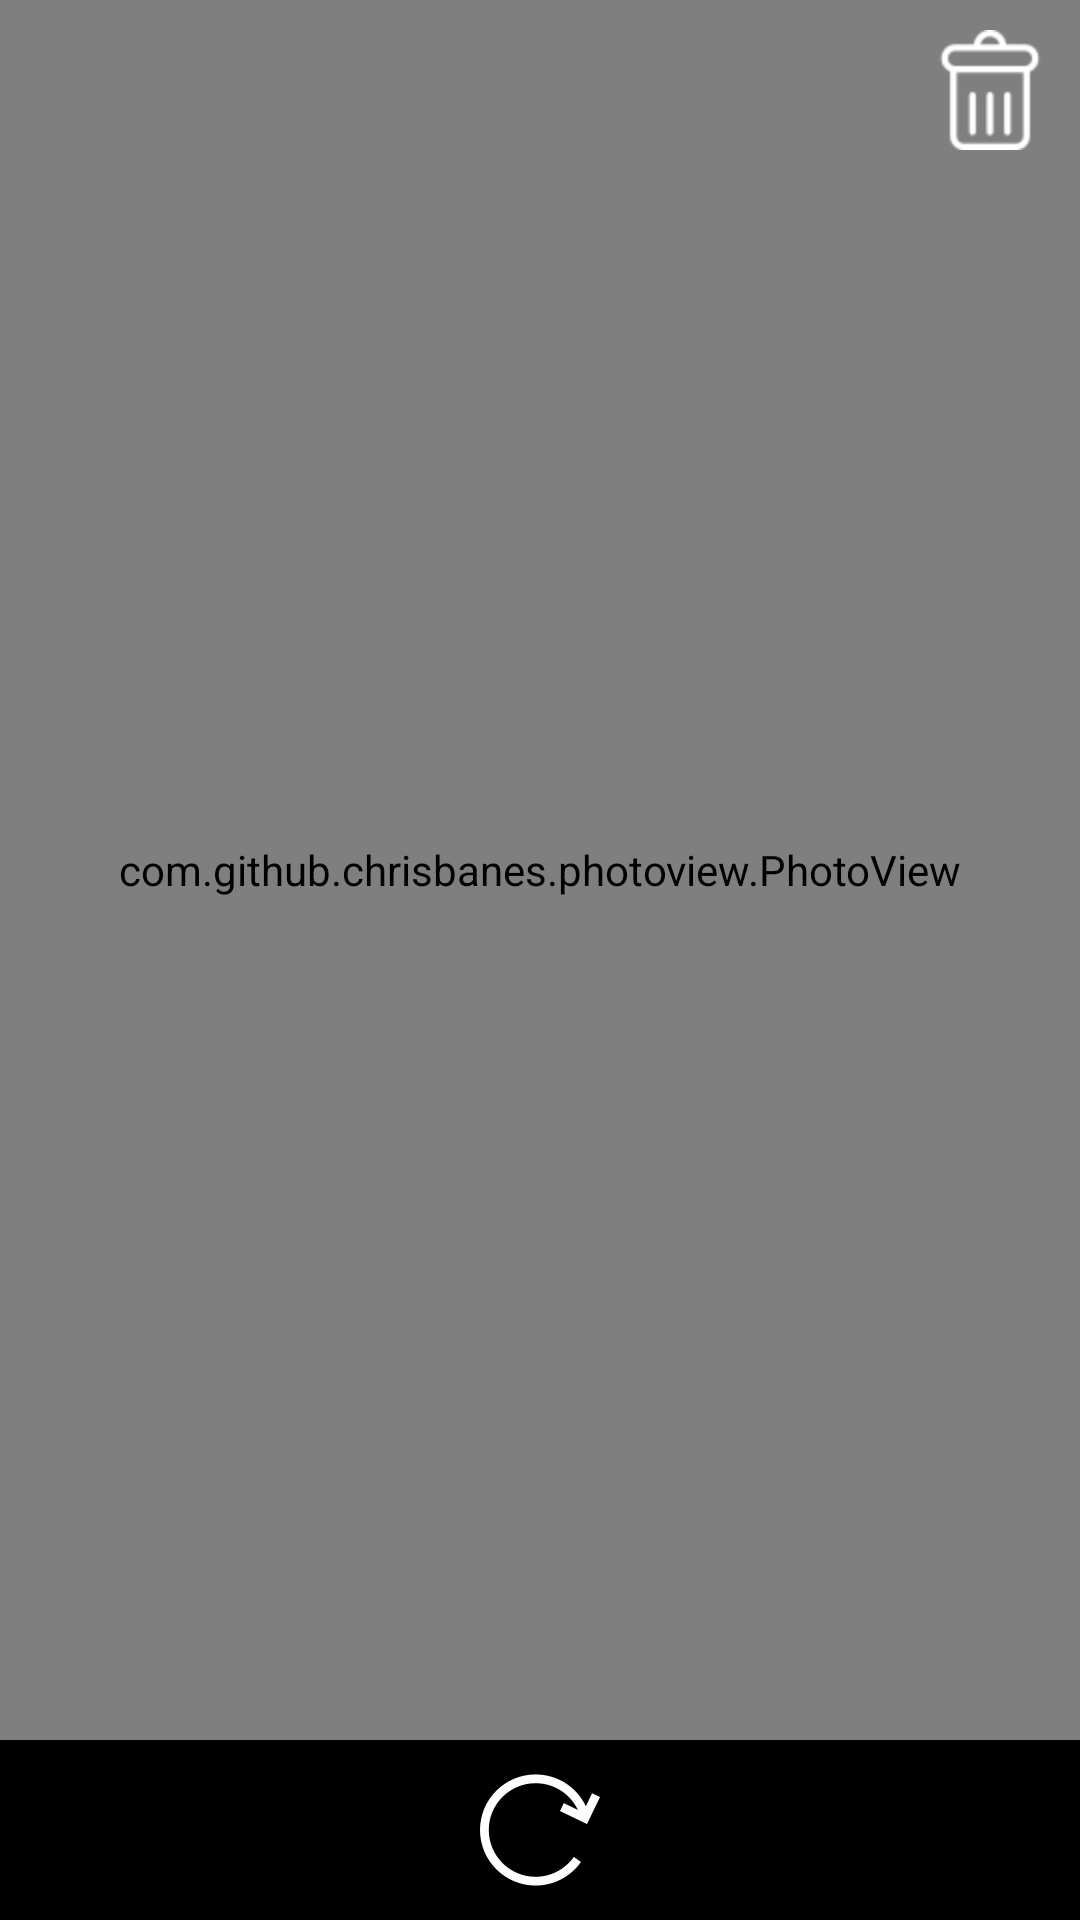

Where to tap for icons on this 1080×1920 app screen, as (x=x, y=y):
delete: (x=990, y=90)
turn right: (x=540, y=1830)
